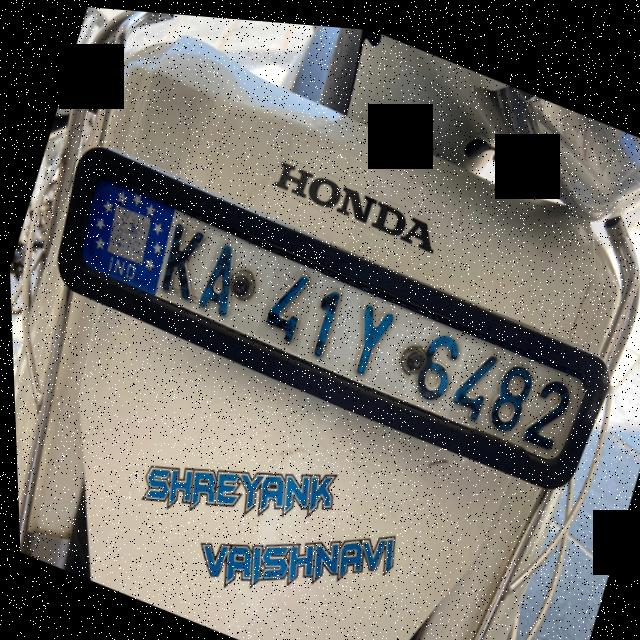1: (297, 273, 353, 362)
4: (250, 250, 322, 351), (440, 331, 502, 416)
6: (398, 318, 469, 411)
8: (476, 342, 544, 446)
A: (184, 230, 253, 329)
K: (143, 214, 220, 323)
Y: (331, 284, 401, 392)
